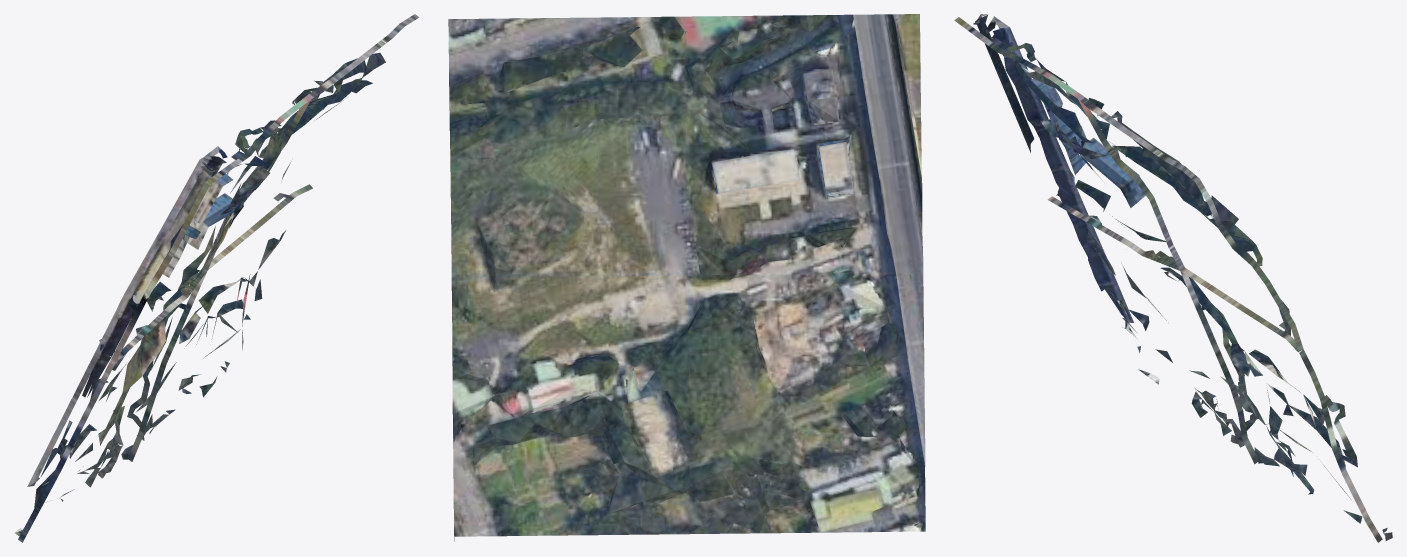
3 renders of one model, left to right at view 1: azimuth 30°, elevation 25°; view 2: azimuth 150°, elevation 25°; view 3: azimuth 270°, elevation 25°, orthographic. The views are drawn at different scales.
Size of the model in its own units: 306 by 283 by 267.
Materials: 2 (2 with a texture image).
